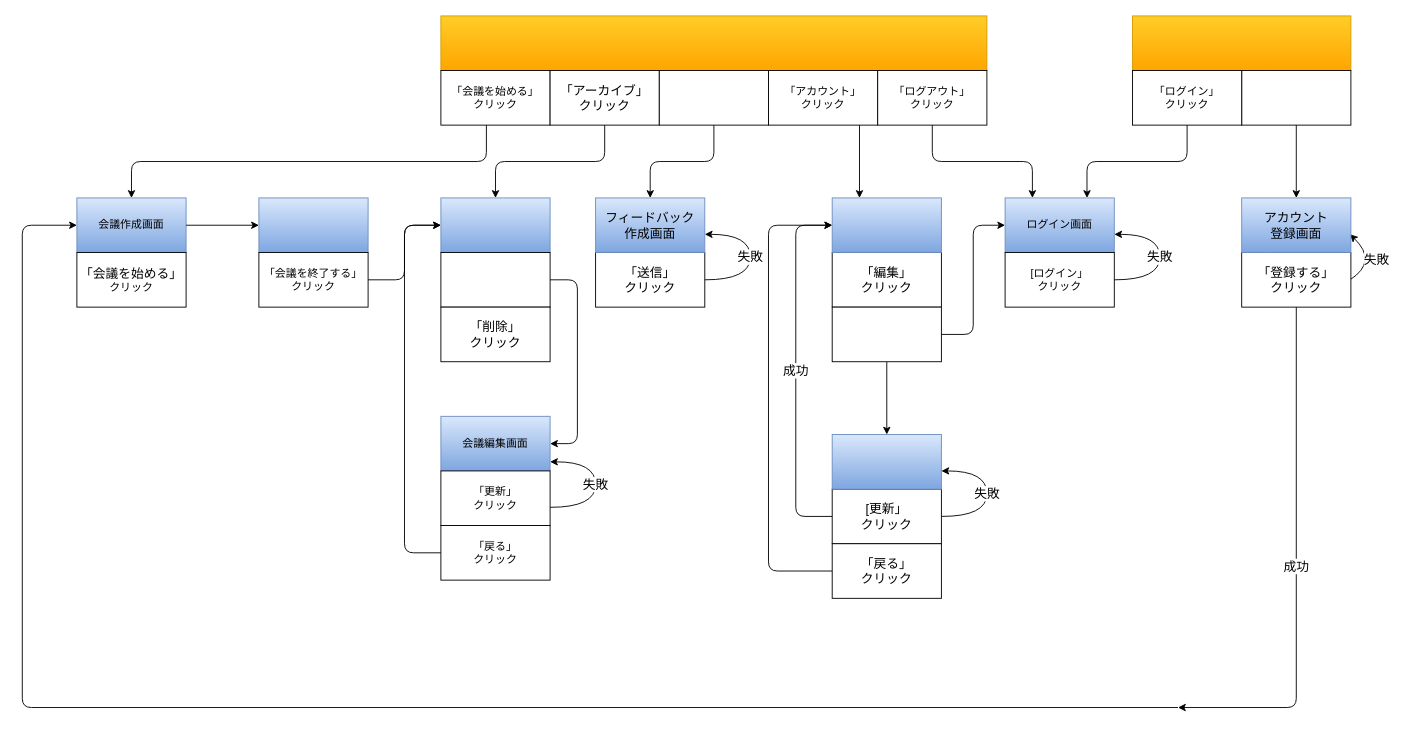
This 1405x731 diagram has some shape labels left out. The shapes that lost their labels are listed below. From the top down, each one's box as (x1, y1, x2, y2) in pixels, then its label:
(440, 15, 987, 71): グローバルナビゲーション（ログイン中）
(1132, 15, 1351, 71): グローバルナビゲーション （ログアウト中）
(658, 70, 768, 125): 「フィードバック」クリック
(1241, 70, 1351, 125): 「アカウント登録」 クリック
(258, 197, 368, 253): 会議進行中画面
(440, 197, 550, 253): アーカイブ画面
(831, 197, 941, 253): アカウント 詳細画面
(440, 252, 550, 307): 「会議編集」 クリック
(831, 306, 941, 362): 「退会」 クリック
(831, 434, 941, 489): アカウント 編集画面
